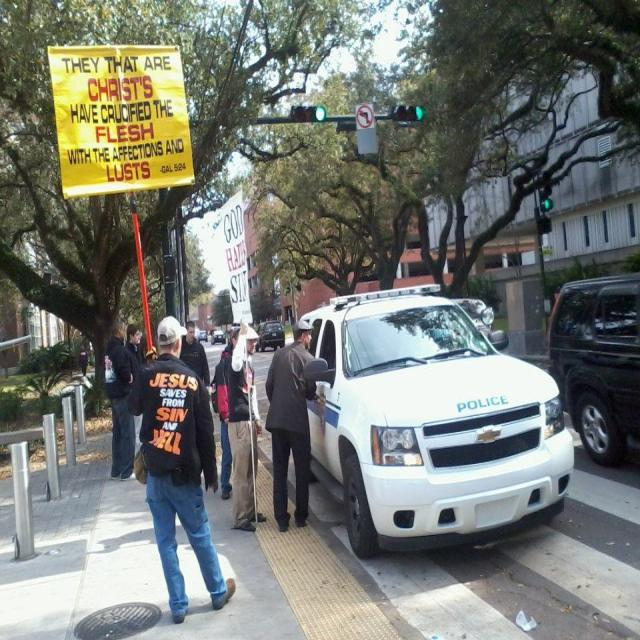body: (125, 313, 238, 626), (262, 316, 321, 534), (226, 321, 268, 533), (102, 318, 141, 484), (208, 327, 242, 500), (180, 319, 211, 391), (121, 322, 143, 388), (77, 342, 89, 379), (332, 348, 337, 376)
